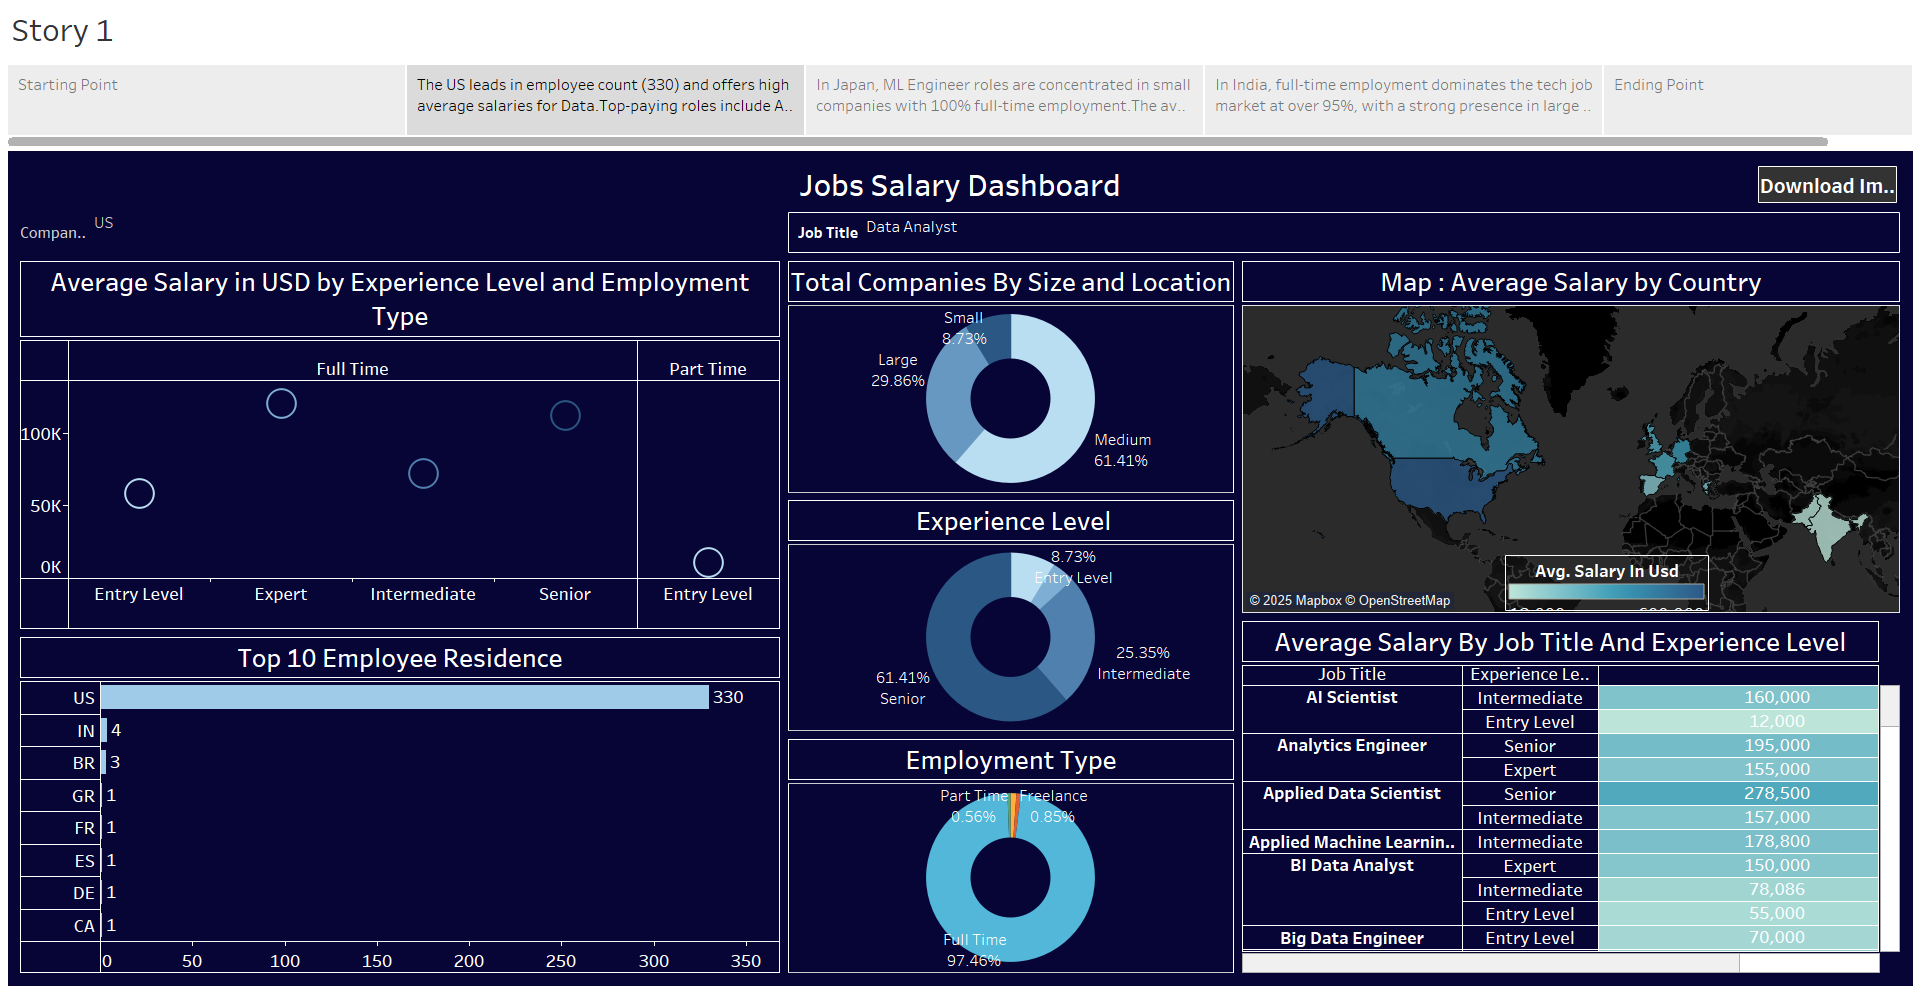

Layout of this report page (visuals, bound fields, positions):
{"tool":"tableau","page":{"name":"Dashboard 1","canvas":[1000,1000],"units":"permille","ordinal":0},"visuals":[{"type":"title","box":[4.8,10,990.3,61.2]},{"type":"dashboard-object","box":[919.1,17.5,73,44.9]},{"type":"filter","title":"Total Companies By Size and Location","param":"[federated.06j91v41yytjut1d6ev5m0dt3v7q].[none:company_location:nk]","box":[4.8,71.2,403.1,58]},{"type":"filter","title":"Map : Average Salary by Country","param":"[federated.06j91v41yytjut1d6ev5m0dt3v7q].[none:job_title:nk]","box":[407.9,71.2,587.3,58]},{"type":"worksheet","title":"Average Salary in USD by Experience Level and Employment Type ","mark":"Shape","rows":["salary_in_usd"],"cols":["employment_type","experience_level"],"box":[4.8,129.2,402.9,449.3]},{"type":"worksheet","title":"Total Companies By Size and Location","mark":"Pie","rows":["Calculation_912823416019795973","Calculation_912823416019812359"],"box":[407.7,129.2,238.1,286.3]},{"type":"worksheet","title":"Map : Average Salary by Country","mark":"Automatic","box":[645.8,129.2,349.3,430.2]},{"type":"worksheet","title":" Experience Level ","mark":"Pie","rows":["Calculation_912823416019795973","Calculation_912823416019812359"],"box":[407.7,415.5,238.1,285.6]},{"type":"legend","title":"Average Salary By Job Title And Experience Level","param":"[federated.06j91v41yytjut1d6ev5m0dt3v7q].[avg:salary_in_usd:qk]","box":[786.4,484.4,106.8,67.4]},{"type":"worksheet","title":"Average Salary By Job Title And Experience Level","mark":"Square","rows":["job_title","experience_level"],"box":[645.8,559.5,349.3,430.6]},{"type":"worksheet","title":"Top 10 Employee Residence","mark":"Automatic","rows":["employee_residence"],"cols":["employee_residence"],"box":[4.8,578.5,402.9,411.5]},{"type":"worksheet","title":"Employment Type","mark":"Pie","rows":["Calculation_912823416019795973","Calculation_912823416019812359"],"box":[407.7,701.1,238.1,288.9]}]}

Visuals, with their boxes on the dashboard's canvas, which has no fixed pixel size, in thousandths of its width and height (x1, y1, x2, y2). These are canvas units, not pixel positions in the 1920x993 screenshot, which may show the page scaled, cropped or inside an application window:
title: bbox(5, 10, 995, 71)
dashboard-object: bbox(919, 18, 992, 62)
"Total Companies By Size and Location" filter: bbox(5, 71, 408, 129)
"Map : Average Salary by Country" filter: bbox(408, 71, 995, 129)
"Average Salary in USD by Experience Level and Employment Type " worksheet (Shape marks): bbox(5, 129, 408, 578)
"Total Companies By Size and Location" worksheet (Pie marks): bbox(408, 129, 646, 416)
"Map : Average Salary by Country" worksheet: bbox(646, 129, 995, 559)
" Experience Level " worksheet (Pie marks): bbox(408, 416, 646, 701)
"Average Salary By Job Title And Experience Level" legend: bbox(786, 484, 893, 552)
"Average Salary By Job Title And Experience Level" worksheet (Square marks): bbox(646, 560, 995, 990)
"Top 10 Employee Residence" worksheet: bbox(5, 578, 408, 990)
"Employment Type" worksheet (Pie marks): bbox(408, 701, 646, 990)
